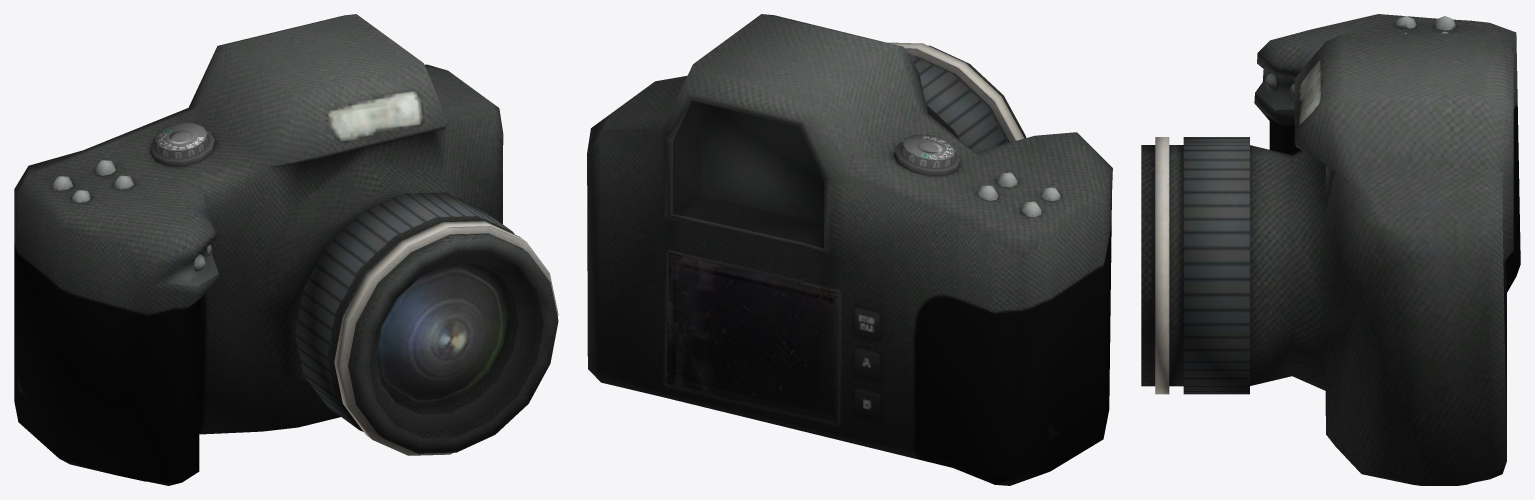
The picture shows the model from 3 angles, left to right: view 1: azimuth 30°, elevation 25°; view 2: azimuth 150°, elevation 25°; view 3: azimuth 270°, elevation 25°; orthographic projection. The views are drawn at different scales.
Visible parts, largest first — view 1: camera_reference_camera_reference.001; view 2: camera_reference_camera_reference.001; view 3: camera_reference_camera_reference.001.
Part boxes in pixels (x1=…): camera_reference_camera_reference.001: x1=14, y1=14, x2=558, y2=485; camera_reference_camera_reference.001: x1=587, y1=14, x2=1112, y2=485; camera_reference_camera_reference.001: x1=1141, y1=14, x2=1520, y2=485.
Size of the model in its own units: 8.9 by 6.1 by 6.15.
Materials: 1 (1 with a texture image).
